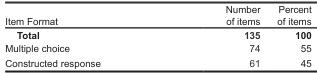table: (4, 3, 310, 67)
table column: (4, 3, 162, 67), (162, 3, 267, 67), (267, 3, 310, 67)
table column header: (4, 3, 310, 27)
table row: (4, 3, 310, 27), (4, 40, 310, 55), (4, 27, 310, 40), (4, 55, 310, 67)
